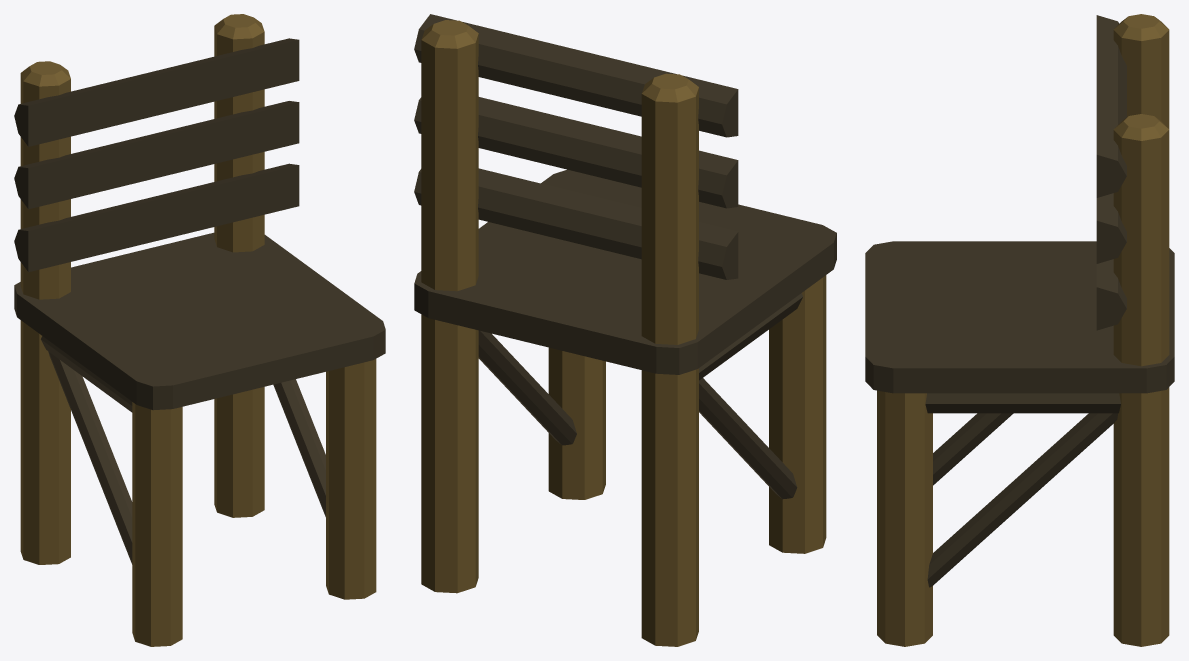
Rendered from silla de madera 3.fbx.
3 renders of one model, left to right at view 1: azimuth 30°, elevation 25°; view 2: azimuth 150°, elevation 25°; view 3: azimuth 270°, elevation 25°, orthographic. The views are drawn at different scales.
Visible parts, largest first — view 1: silla; view 2: silla; view 3: silla.
Part boxes in pixels (x1,y1,x2,y2): silla: (14, 14, 385, 646); silla: (414, 14, 836, 646); silla: (865, 14, 1174, 646).
Bounding box in the file's own units: 140 × 240 × 131.
